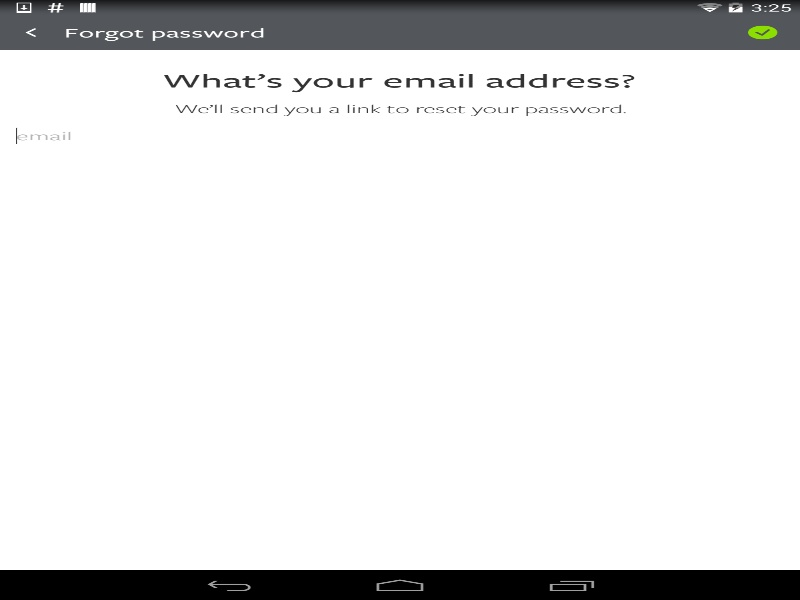Input: (16, 116, 784, 145)
